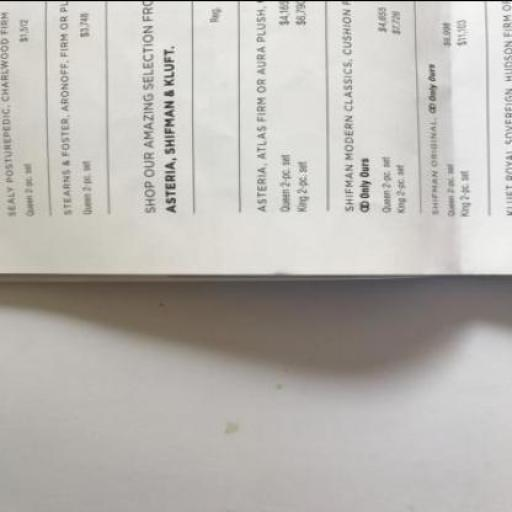paper: (1, 2, 511, 280)
